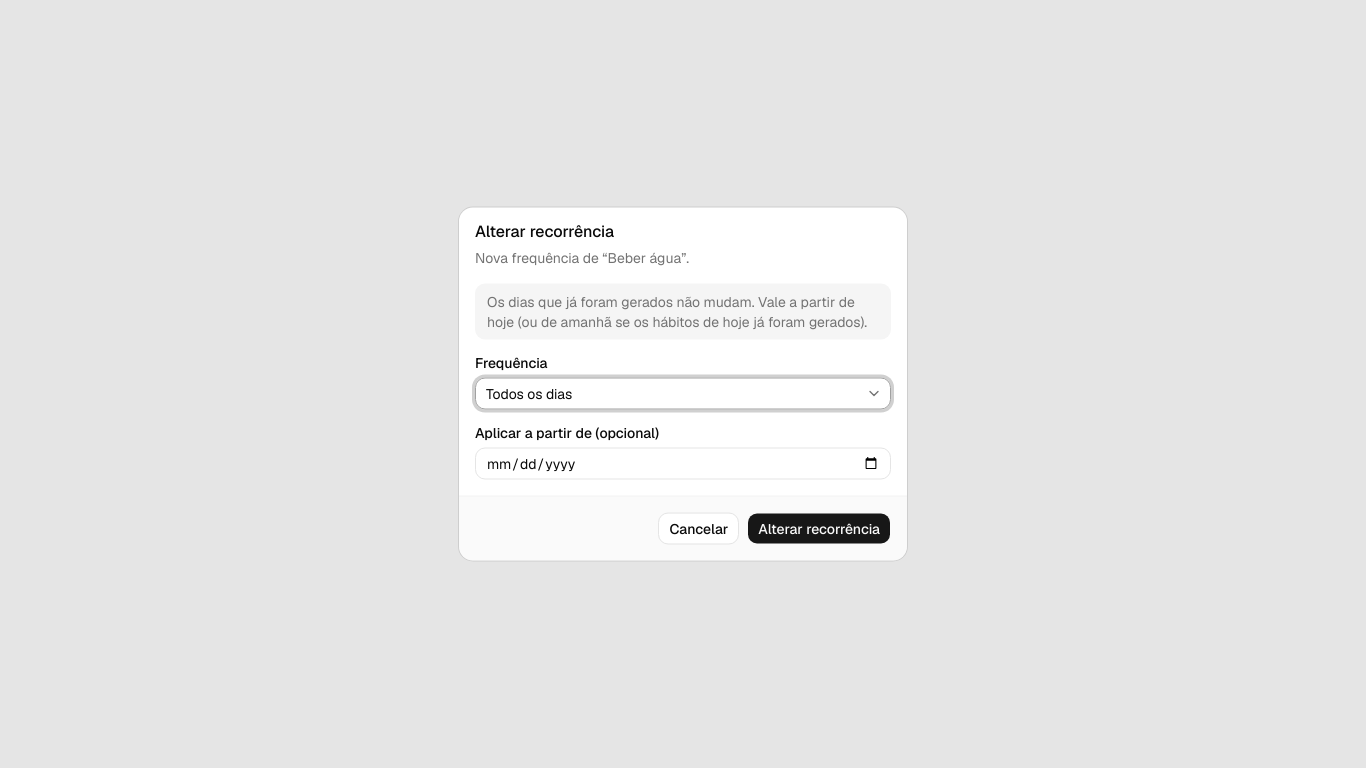
Scenario: ChangeRecurrenceDialog › blocks an apply-from date in the past
Type "2026-10-01" into the date field labelled "Aplicar a partir de (opcional)" at [683, 464], box [475,448,891,480]
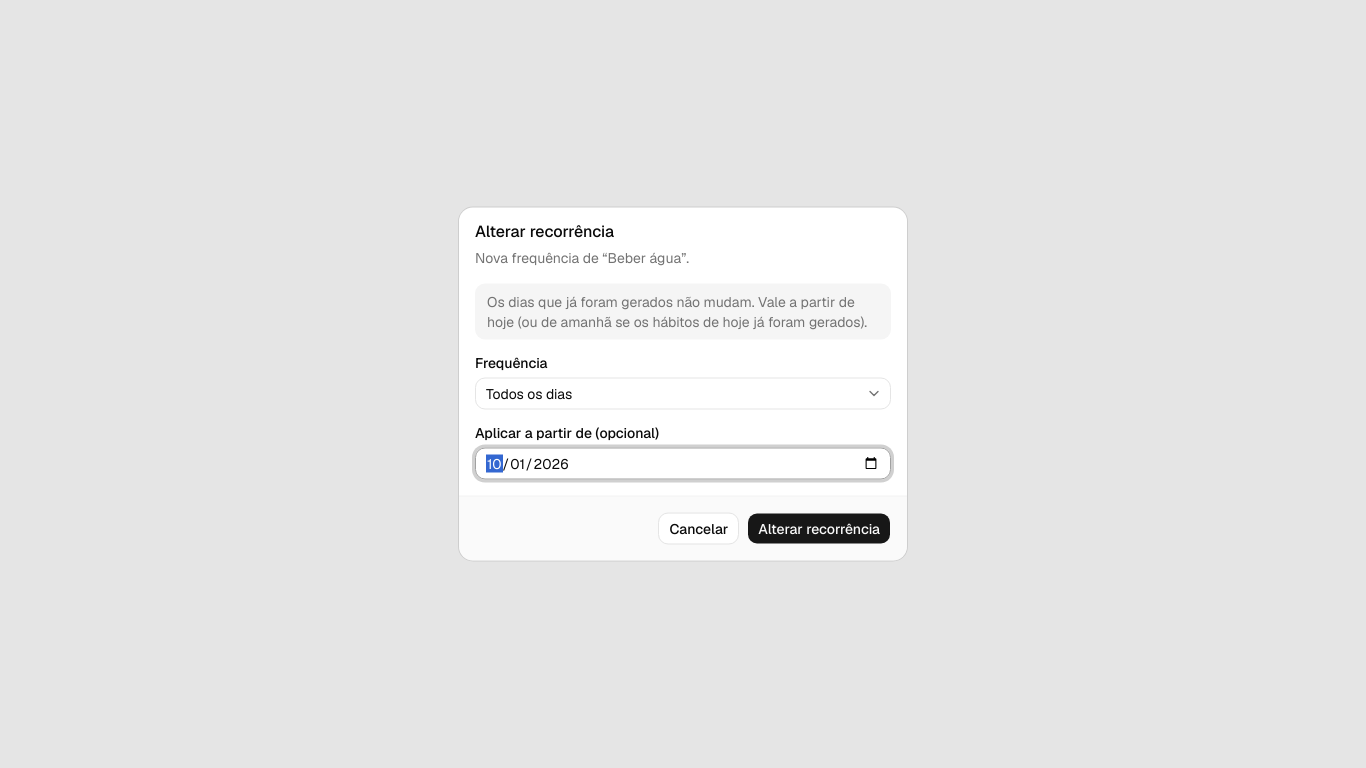
Click the button "Alterar recorrência" at [819, 528], box [747,512,891,544]
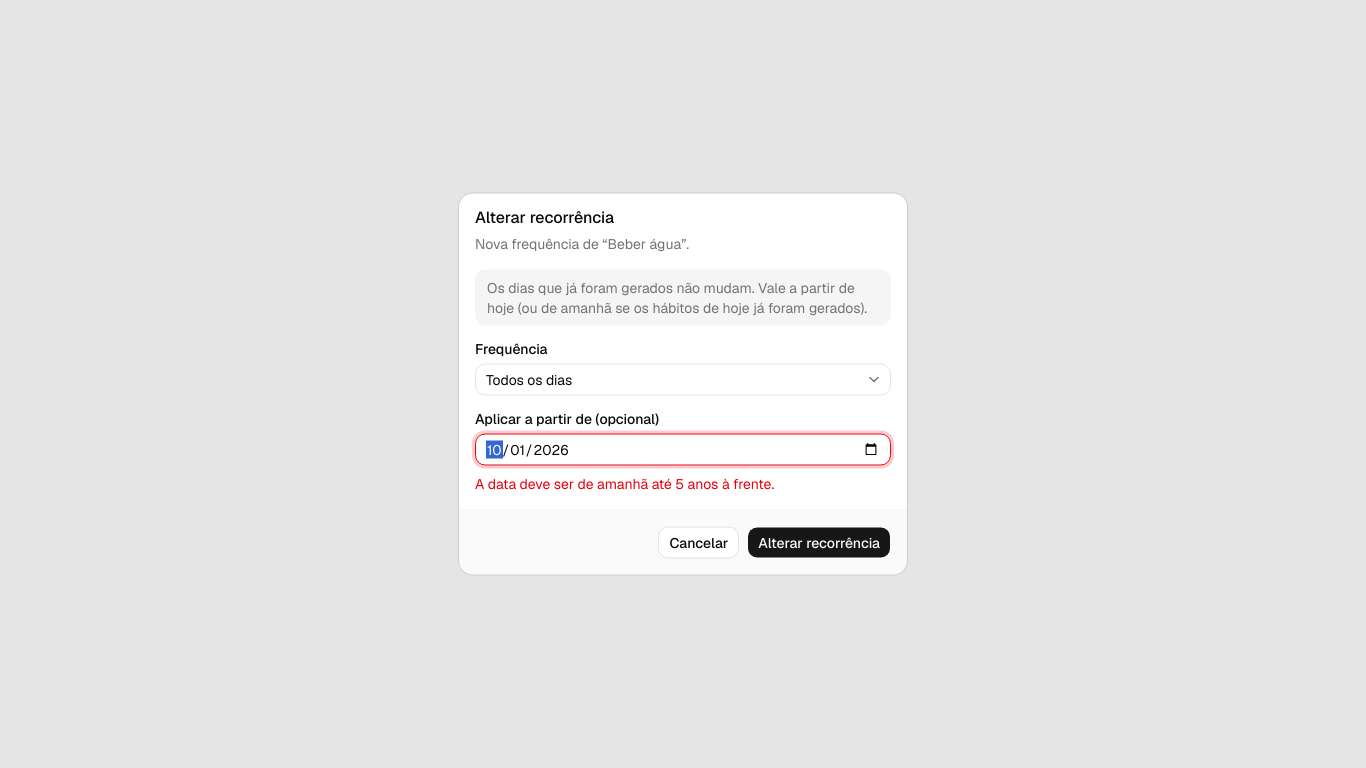
Expected: the text "A data deve ser de amanhã até 5 anos à frente." is shown, [475,474,774,492]
